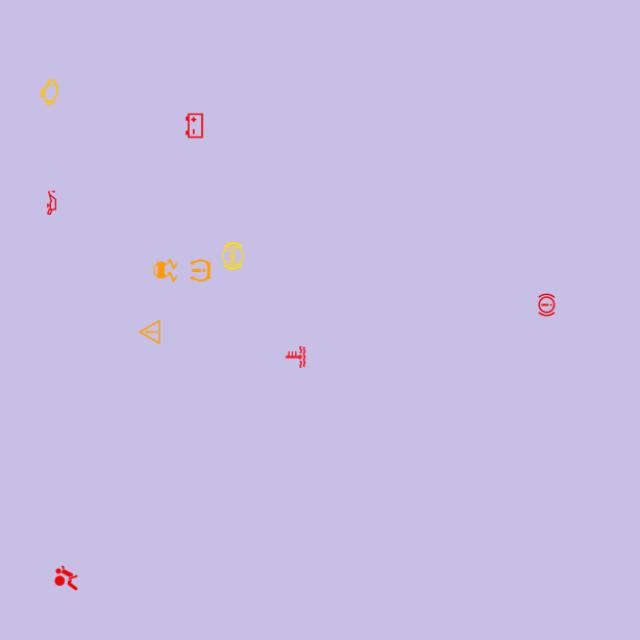Anti Lock Braking System: (218, 241, 248, 271)
Braking System Issue: (532, 290, 562, 320)
Charging System Issue: (180, 110, 210, 140)
Check Engine: (34, 77, 64, 107)
Electronic Stability Problem -ESP-: (150, 256, 180, 286)
Engine Overheating Warning Light: (280, 342, 310, 372)
Low Engine Oil Warning Light: (36, 188, 66, 218)
Low Tire Pressure Warning Light: (186, 256, 216, 286)
Master warning light: (134, 317, 164, 347)
SRS-Airbag: (51, 563, 81, 593)
